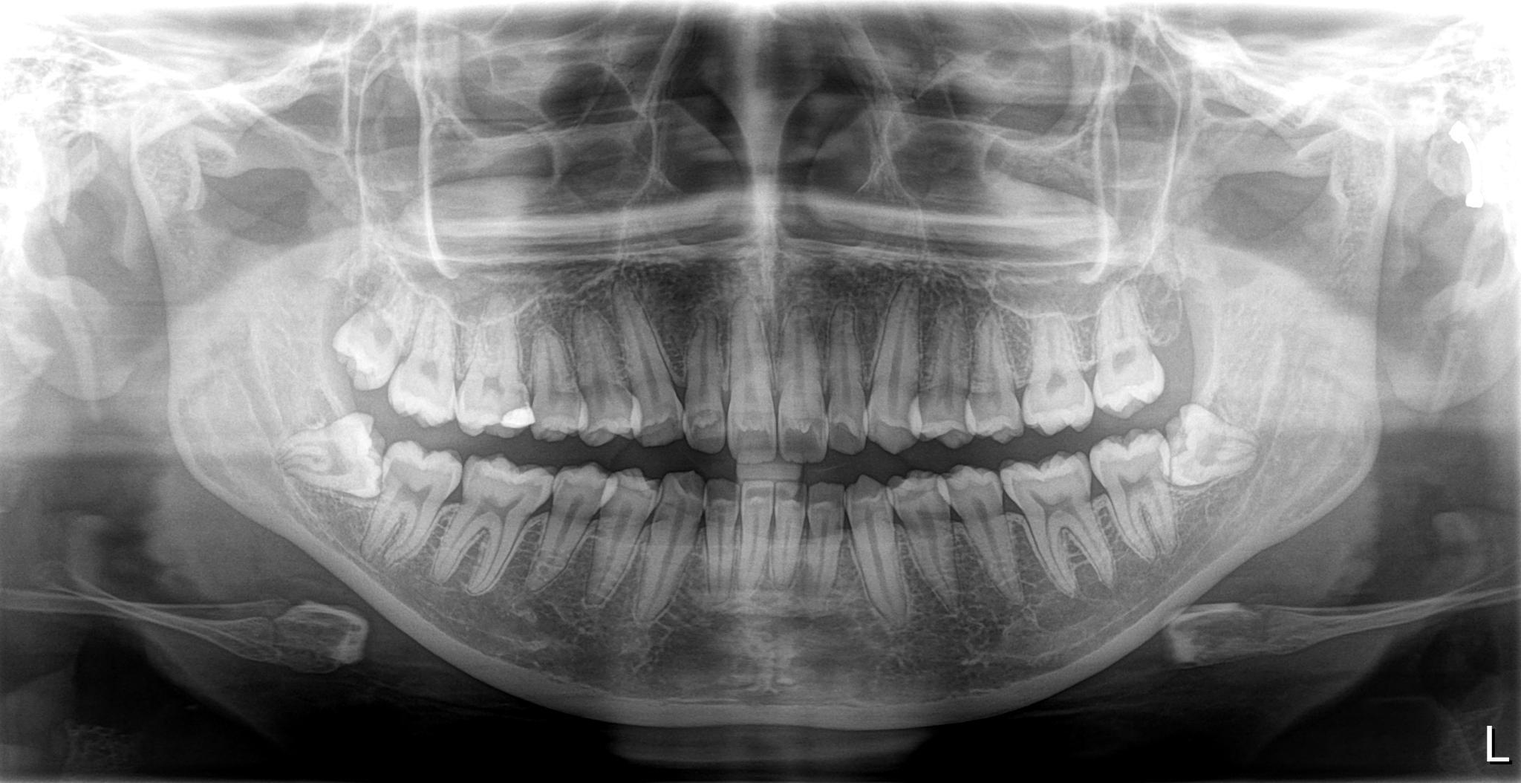Dental Caries: (702, 474, 737, 510), (668, 475, 700, 506)
Endodontically Treated Tooth: (472, 301, 540, 439)
Impacted Third Molar: (284, 420, 387, 501), (1172, 414, 1272, 485)
Missing Tooth: (1140, 288, 1205, 406)
